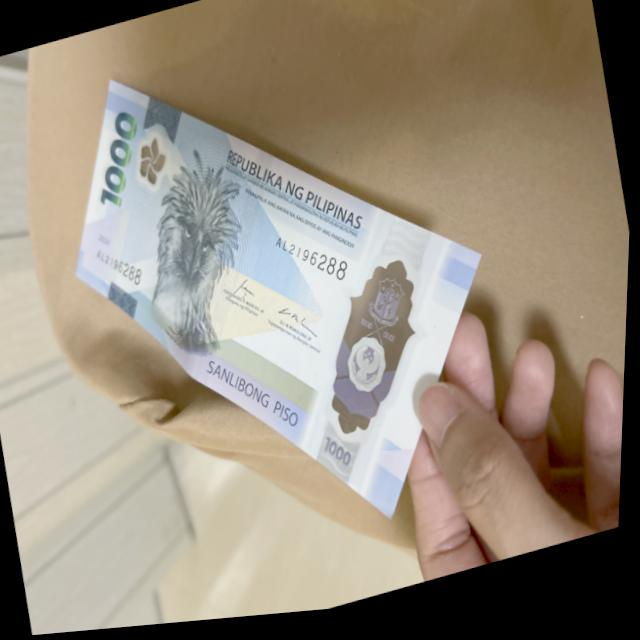clear_window: (307, 269, 444, 454)
eagle: (128, 171, 264, 338)
sampaguita: (134, 137, 176, 192)
